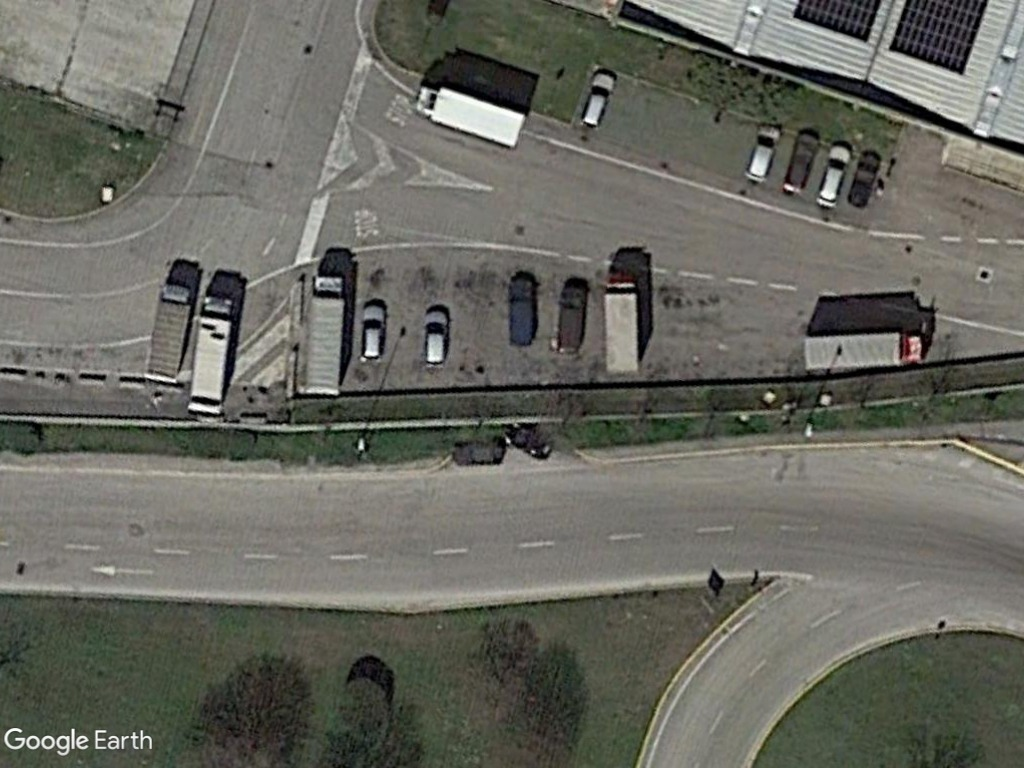car: (812, 139, 856, 210), (780, 129, 822, 196), (579, 64, 618, 134), (744, 119, 784, 186), (420, 305, 453, 371), (357, 300, 389, 367)
truck: (413, 78, 531, 152), (184, 289, 239, 420), (304, 270, 352, 398), (798, 328, 930, 373), (143, 278, 195, 388), (597, 265, 644, 379)
